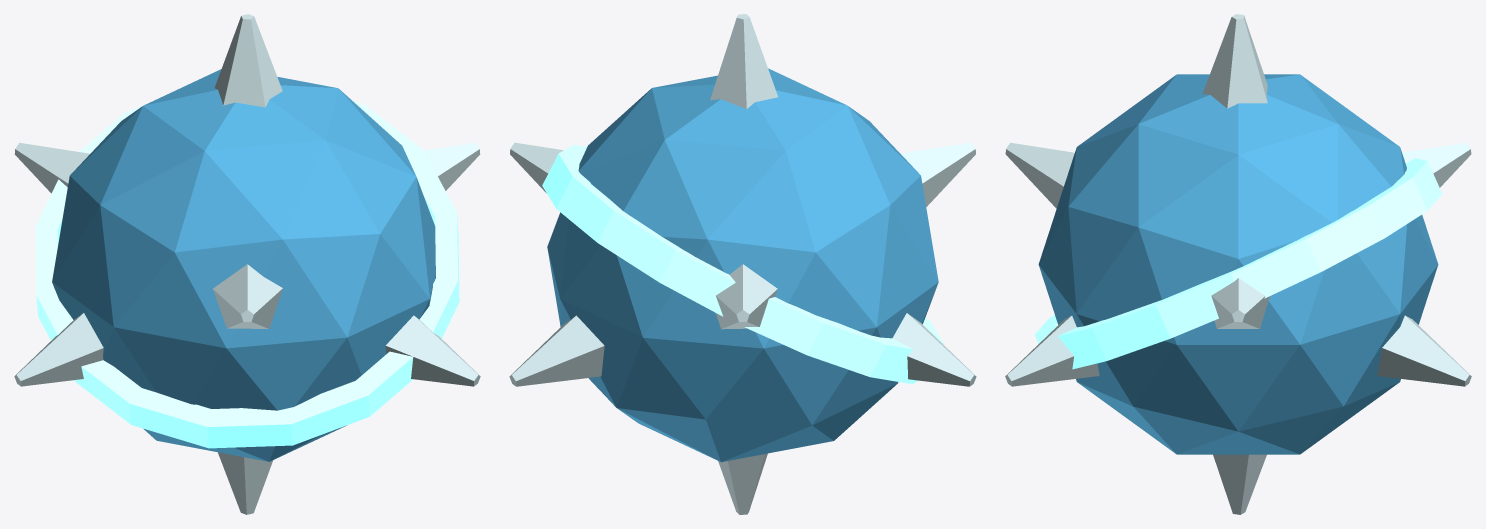
File: FrostOrb.glb
3 views of the same model, side by side, from view 1: azimuth 30°, elevation 25°; view 2: azimuth 150°, elevation 25°; view 3: azimuth 270°, elevation 25° (orthographic).
Parts seen in each view (by area): view 1: FrostOrb; view 2: FrostOrb; view 3: FrostOrb.
Part boxes in pixels (x1,y1,x2,y2): FrostOrb: [14, 14, 480, 514]; FrostOrb: [509, 14, 976, 514]; FrostOrb: [1005, 14, 1471, 514].
Size of the model in its own units: 1.31 by 1.34 by 1.14.
